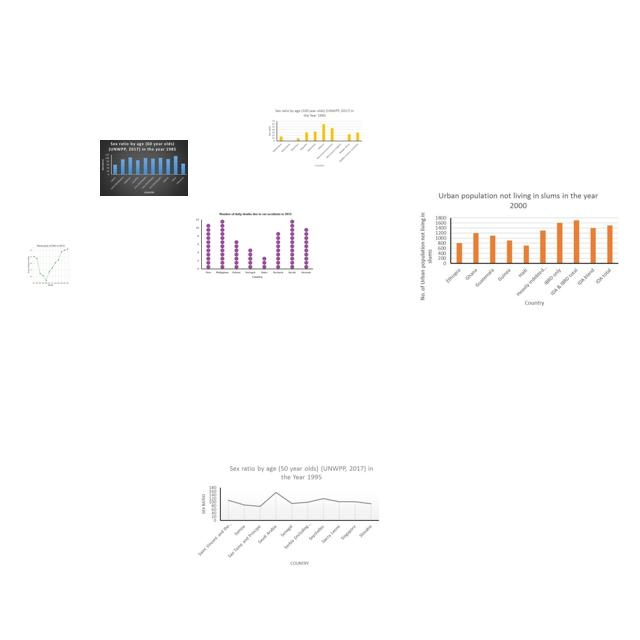Graph: (416, 189, 621, 308), (196, 462, 382, 568), (195, 210, 316, 282), (265, 107, 363, 169), (100, 140, 188, 196), (20, 242, 80, 287)
